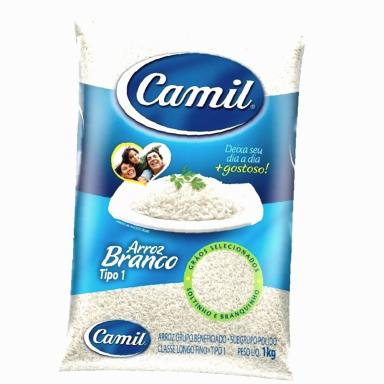rice package: (62, 22, 303, 379)
